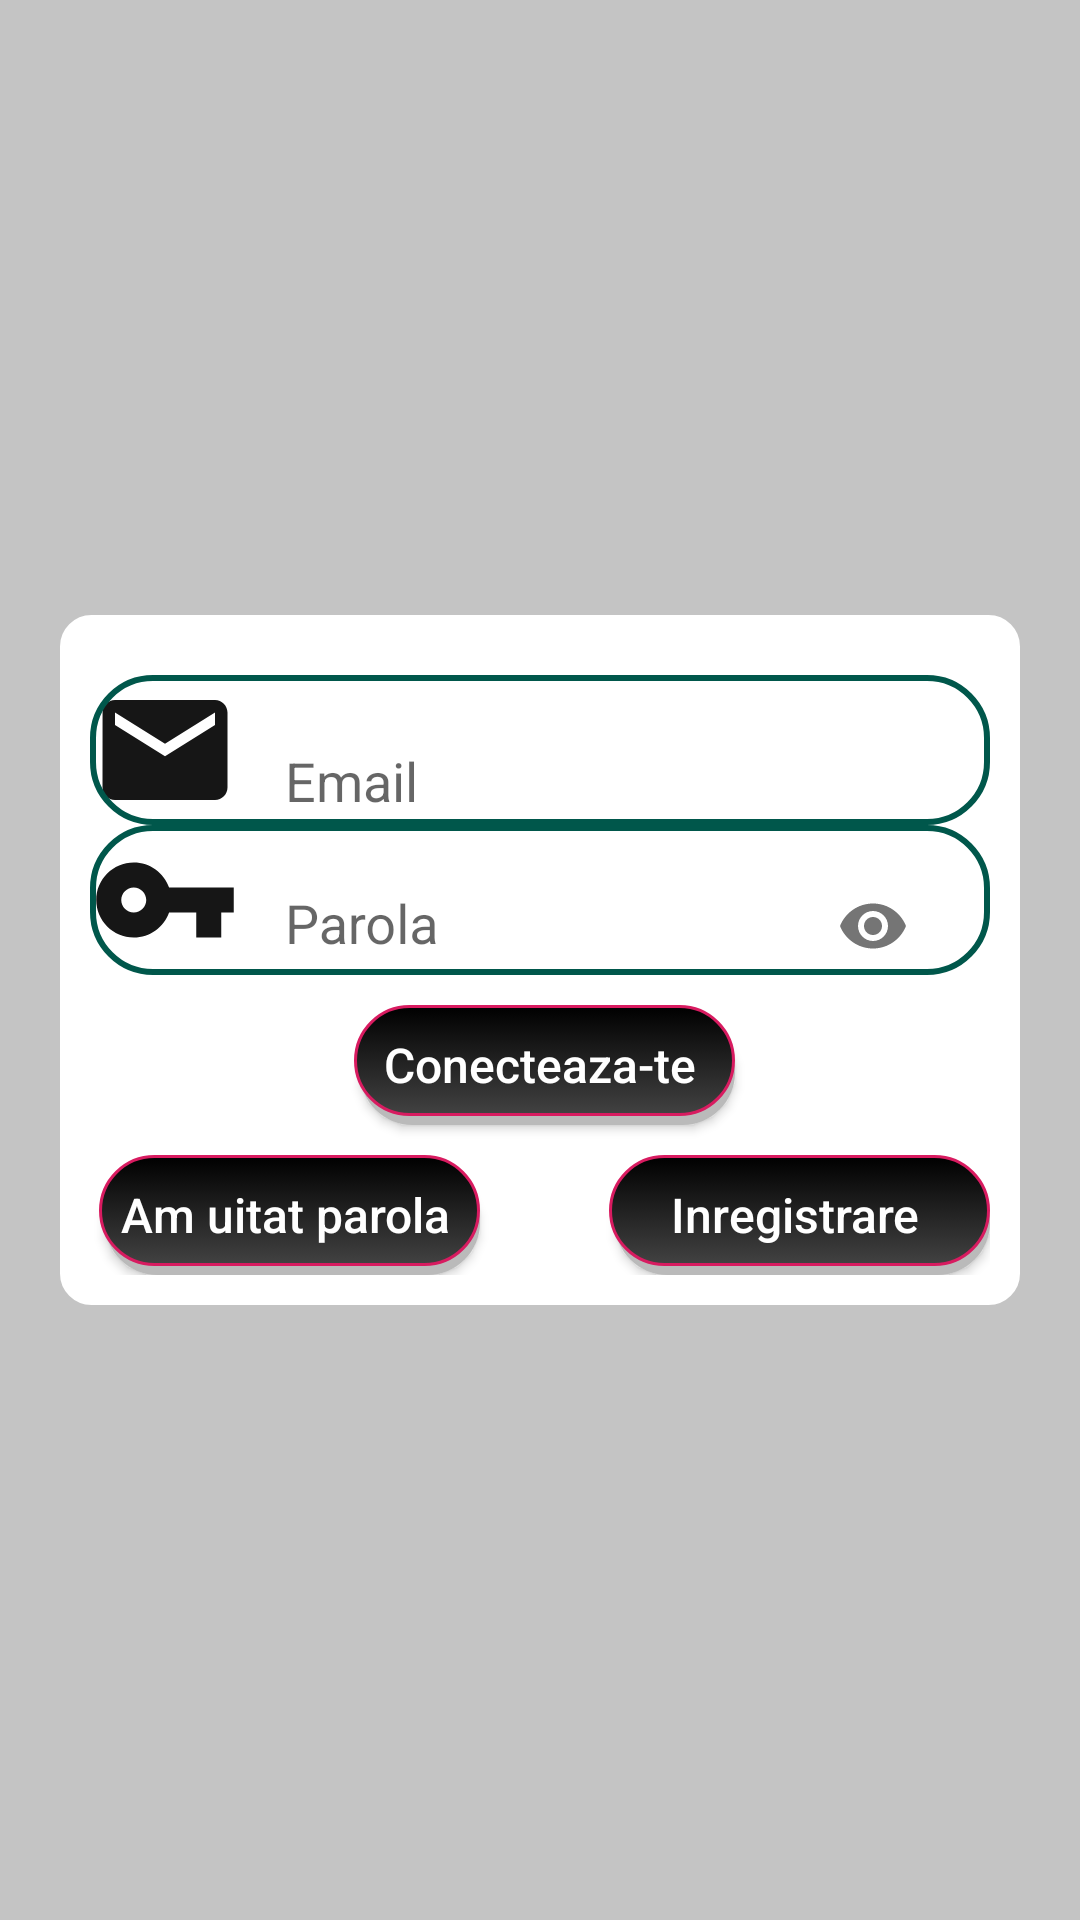

Icon click points for this 1080w x 1920h phone screenshot, format point (x, y):
password: point (165, 900)
